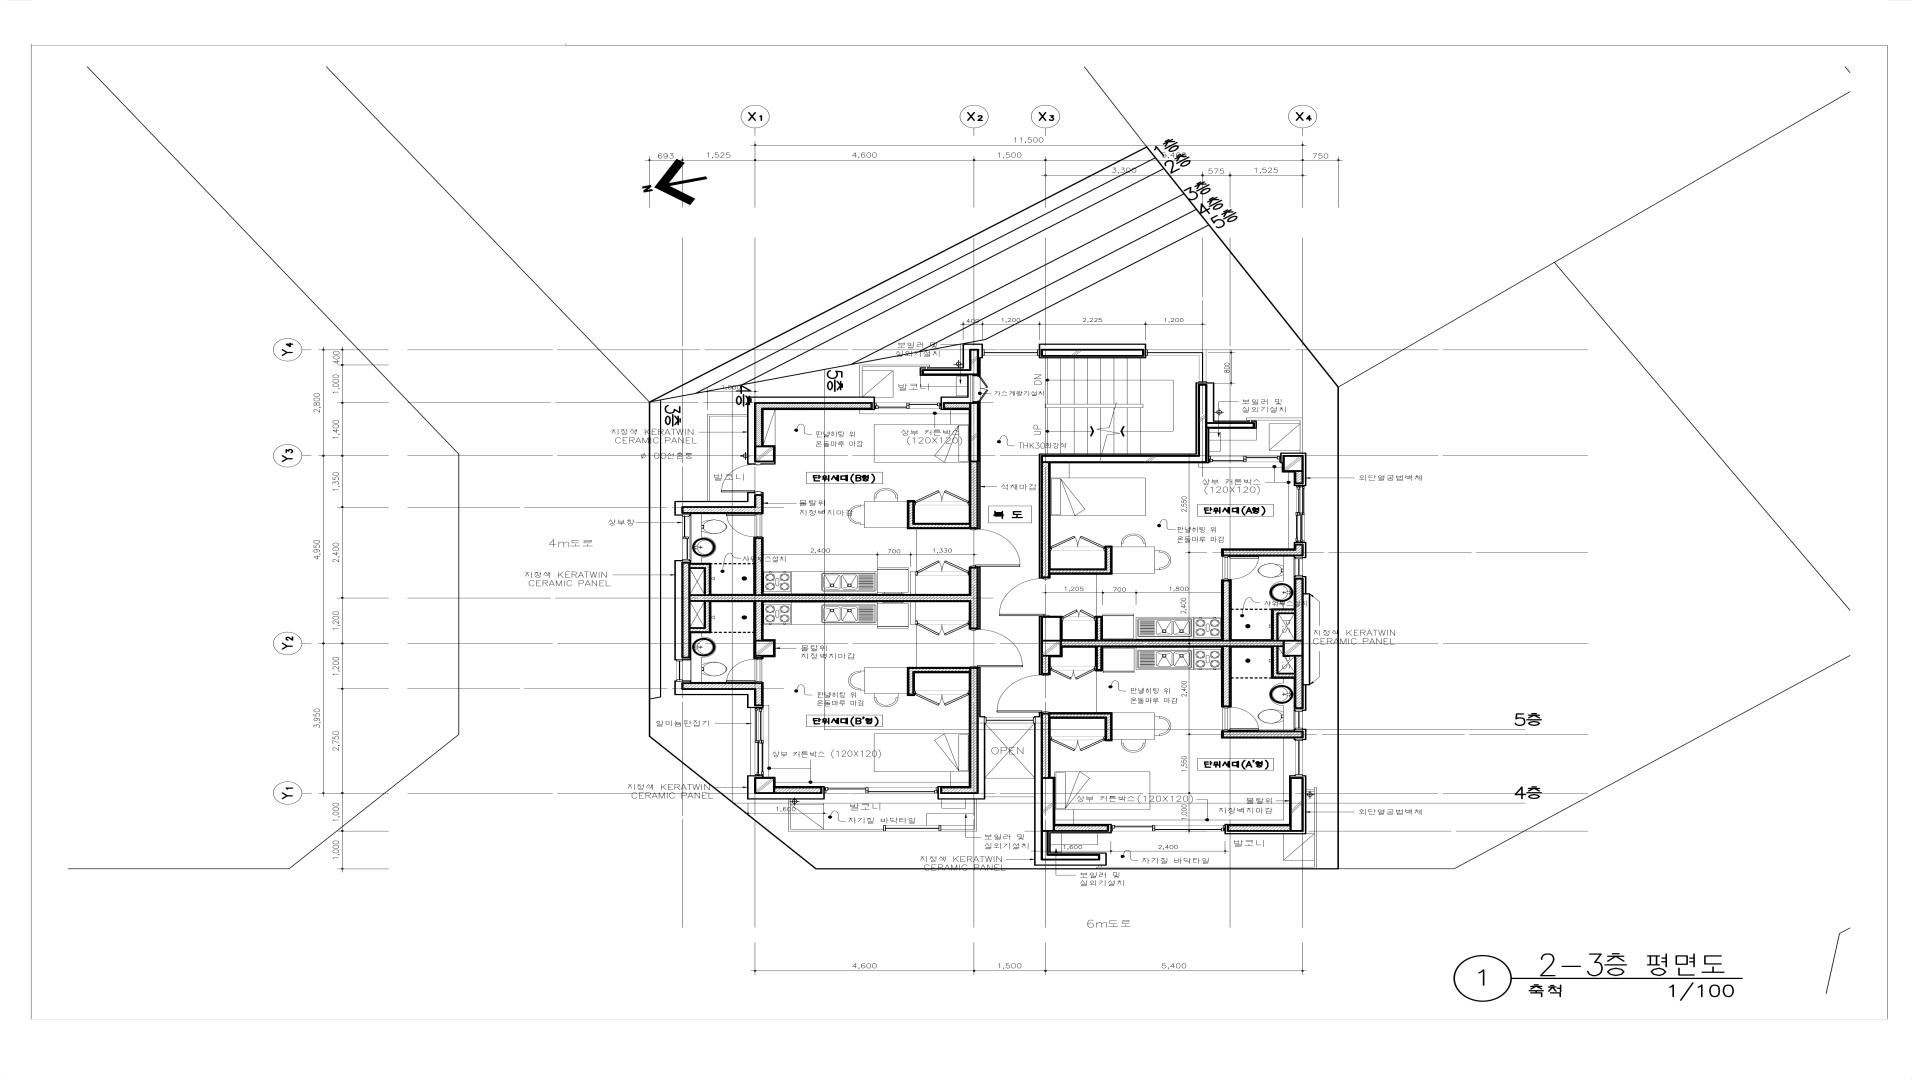door: (968, 629, 1023, 667), (997, 675, 1051, 712), (969, 529, 1021, 567), (1000, 579, 1051, 616), (721, 464, 764, 492), (1221, 707, 1259, 731), (725, 514, 764, 537), (1221, 556, 1259, 579), (727, 659, 764, 682), (972, 376, 989, 402)
wall: (691, 593, 969, 603), (1063, 640, 1283, 647), (1034, 716, 1043, 866), (1040, 455, 1208, 463), (1040, 463, 1051, 579), (1040, 348, 1145, 357), (969, 667, 977, 786), (682, 562, 691, 658), (1042, 616, 1063, 657), (764, 402, 872, 410), (674, 562, 682, 661), (1197, 385, 1208, 455), (969, 402, 981, 463), (1040, 343, 1145, 349), (1290, 778, 1303, 829), (746, 397, 872, 402), (1043, 777, 1055, 832), (1221, 731, 1304, 738), (1294, 579, 1304, 640), (1221, 579, 1232, 640), (1221, 647, 1232, 707), (977, 716, 985, 793), (753, 537, 764, 593), (1221, 549, 1294, 556), (746, 402, 756, 464), (968, 567, 977, 629), (1294, 657, 1304, 709), (682, 682, 764, 688), (969, 463, 977, 529), (1043, 712, 1051, 777), (682, 688, 756, 695), (682, 508, 756, 514), (674, 501, 746, 508), (1055, 824, 1109, 832), (1226, 829, 1307, 835), (1043, 860, 1106, 866), (753, 601, 764, 641), (746, 794, 823, 799), (775, 786, 823, 794), (754, 777, 775, 794), (1283, 640, 1304, 657), (915, 667, 969, 674), (915, 522, 969, 529), (1051, 568, 1105, 575), (1051, 712, 1105, 719), (753, 641, 775, 657), (976, 463, 981, 529), (756, 402, 764, 446), (1048, 855, 1100, 861), (1226, 824, 1290, 829), (1039, 455, 1042, 579), (1283, 456, 1303, 472), (922, 369, 969, 376), (756, 446, 775, 462), (1208, 422, 1254, 429), (940, 793, 985, 799), (1096, 866, 1317, 868), (969, 348, 980, 376), (976, 667, 981, 716), (1208, 382, 1215, 421), (704, 601, 712, 633), (977, 567, 981, 629), (940, 786, 977, 793), (703, 568, 712, 595), (907, 667, 915, 696), (907, 500, 915, 529), (1105, 546, 1113, 575), (1105, 712, 1113, 741), (707, 417, 709, 501), (1095, 647, 1104, 671), (1303, 775, 1307, 829), (1315, 787, 1317, 866), (943, 402, 969, 410), (1039, 454, 1195, 455), (1271, 647, 1279, 673), (1271, 615, 1279, 640), (1095, 616, 1102, 640), (1195, 385, 1197, 455), (963, 343, 969, 369), (1042, 657, 1051, 675), (1039, 616, 1042, 675), (756, 495, 764, 514), (1043, 832, 1048, 861), (1271, 673, 1294, 679), (1271, 608, 1294, 615), (746, 775, 754, 794), (1246, 418, 1300, 421), (1040, 357, 1146, 359), (940, 397, 967, 402), (1048, 852, 1100, 855), (756, 688, 764, 705), (1303, 452, 1307, 484), (746, 495, 756, 508), (746, 695, 756, 708), (791, 829, 884, 831), (973, 799, 977, 829), (919, 367, 963, 369), (691, 563, 712, 568), (1294, 472, 1303, 484), (674, 682, 682, 695), (707, 414, 746, 417), (1294, 545, 1302, 556), (1300, 418, 1303, 452), (1280, 452, 1303, 456), (862, 365, 930, 367), (1303, 686, 1307, 708), (860, 365, 862, 397), (789, 799, 791, 831), (1051, 832, 1112, 833), (1302, 542, 1307, 556), (674, 508, 683, 516), (967, 376, 969, 402), (691, 628, 704, 633), (1303, 576, 1307, 593), (978, 343, 982, 359), (1100, 852, 1106, 861), (1208, 421, 1254, 422), (822, 786, 825, 799), (1048, 832, 1051, 852), (872, 397, 876, 410), (756, 462, 775, 464), (969, 343, 978, 348), (942, 829, 977, 831), (1208, 429, 1209, 463), (746, 492, 764, 495), (1288, 775, 1303, 778), (938, 786, 940, 799), (1294, 708, 1307, 711), (1294, 484, 1307, 487), (1196, 382, 1208, 385), (753, 657, 764, 659), (682, 658, 691, 661), (1294, 576, 1303, 579), (980, 359, 981, 376), (674, 560, 691, 562), (674, 680, 691, 682), (1109, 824, 1112, 832), (1307, 789, 1315, 791), (1294, 542, 1302, 545), (1254, 421, 1257, 429), (1039, 343, 1040, 359), (940, 402, 943, 410), (756, 705, 764, 708), (1304, 731, 1307, 738), (1280, 456, 1283, 463), (1145, 344, 1146, 357), (919, 369, 922, 376), (1294, 556, 1307, 558), (1294, 738, 1307, 740), (1294, 729, 1307, 731), (1039, 712, 1043, 716), (764, 640, 775, 641), (1225, 824, 1226, 835), (754, 775, 764, 777), (682, 514, 691, 516), (1282, 463, 1283, 472)
window: (1146, 349, 1207, 382), (824, 787, 938, 794), (754, 708, 764, 775), (1112, 825, 1225, 831), (1295, 487, 1304, 542), (1209, 456, 1280, 463), (876, 402, 940, 409), (682, 516, 691, 560), (982, 349, 1039, 356), (985, 717, 1034, 724), (884, 825, 942, 831), (1295, 740, 1303, 775), (1295, 711, 1303, 729), (1295, 558, 1303, 576), (676, 661, 683, 680)
